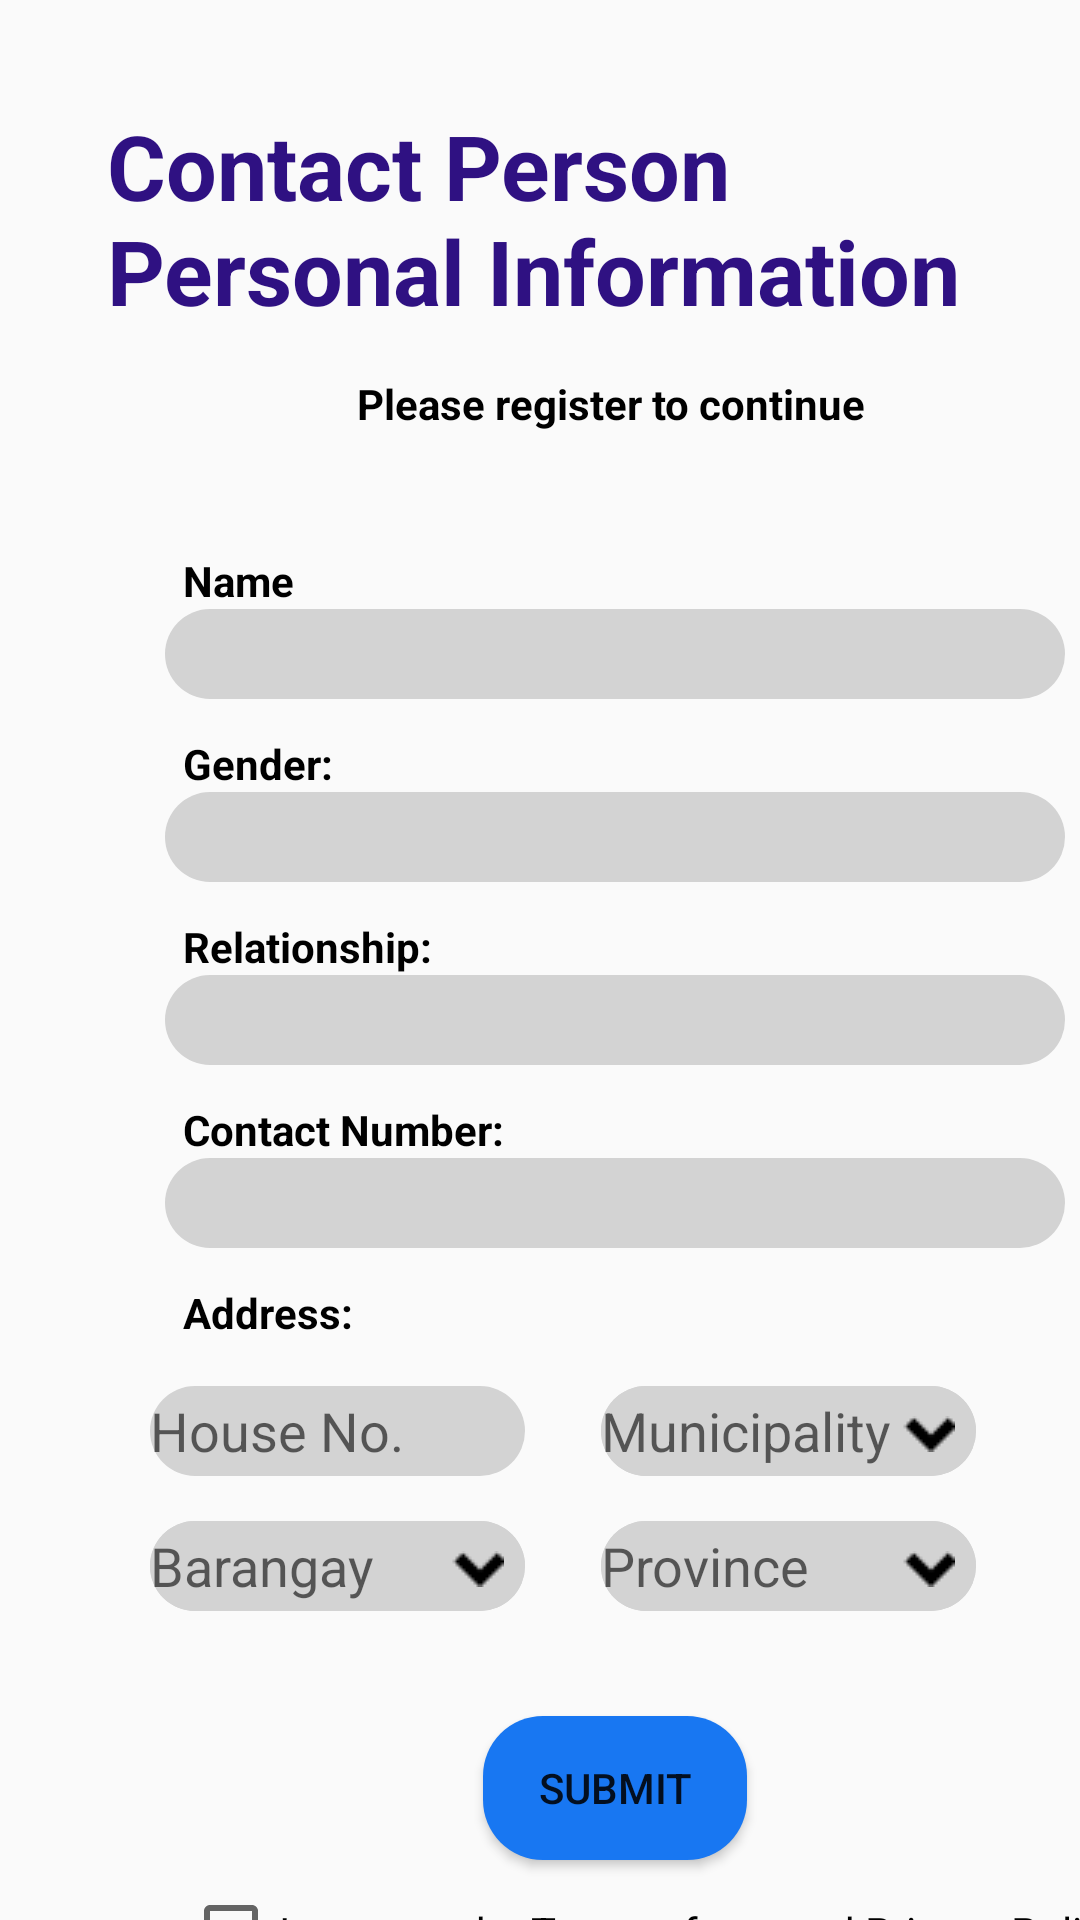

Point at icon controls on the screen. Image size 1080*1920, points as point (x, y).
dropdown: point (929, 1434), point (478, 1569), point (929, 1569)
